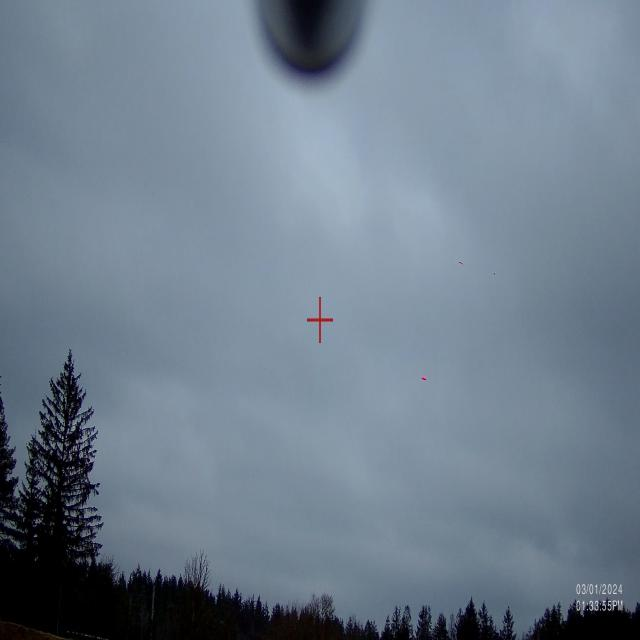broken: (386, 228, 513, 411)
